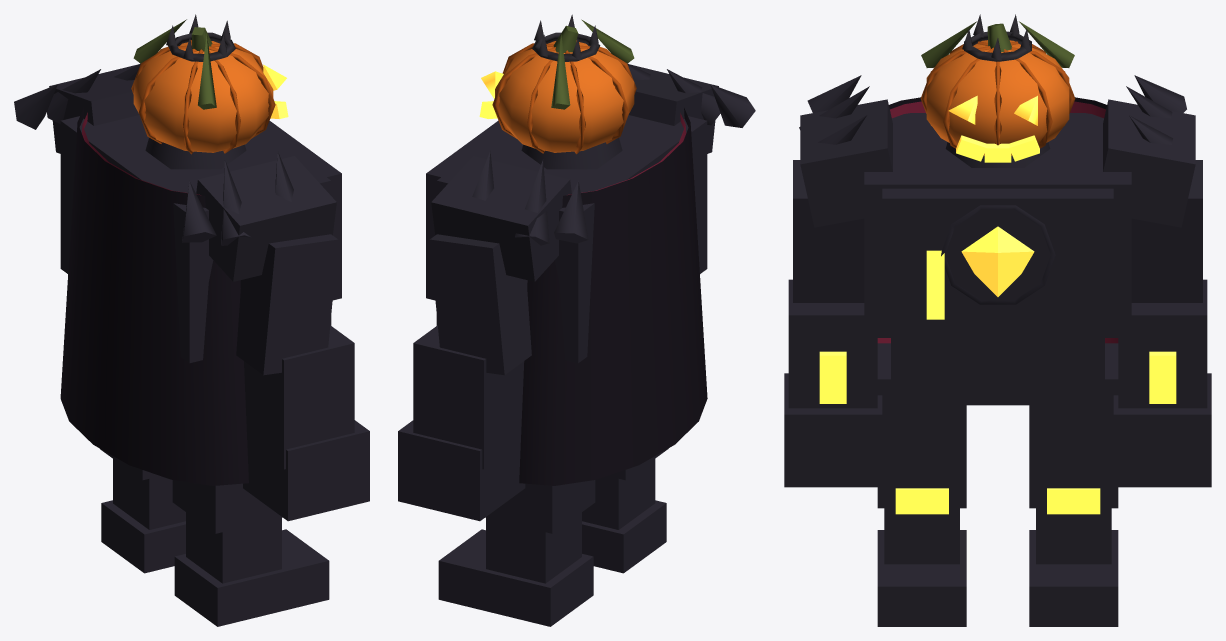
File: enemy_boss.glb
3 renders of one model, left to right at view 1: azimuth 30°, elevation 25°; view 2: azimuth 150°, elevation 25°; view 3: azimuth 270°, elevation 25°, orthographic. The views are drawn at different scales.
Parts seen in each view (by area): view 1: cape, torso, arm_l_upper, arm_l_lower, pauldron_l, head, fist_l, foot_l, shin_l, foot_r, thigh_l, pauldron_r (+14 smaller); view 2: cape, torso, arm_r_upper, arm_r_lower, pauldron_r, head, fist_r, foot_r, shin_r, foot_l, thigh_r, pauldron_l (+14 smaller); view 3: chest_plate, torso, hips, head, thigh_l, thigh_r, pauldron_l, pauldron_r, fist_l, fist_r, arm_l_lower, arm_r_lower (+21 smaller).
Boxes of the visible parts, left/top/right/bottom form: cape: left=60, top=108, right=248, bottom=485; torso: left=60, top=115, right=331, bottom=362; arm_l_upper: left=236, top=234, right=338, bottom=375; arm_l_lower: left=244, top=325, right=354, bottom=469; pauldron_l: left=196, top=156, right=336, bottom=281; head: left=133, top=41, right=273, bottom=152; fist_l: left=243, top=420, right=369, bottom=521; foot_l: left=174, top=529, right=329, bottom=626; shin_l: left=186, top=512, right=281, bottom=583; foot_r: left=101, top=500, right=185, bottom=573; thigh_l: left=172, top=480, right=282, bottom=533; pauldron_r: left=49, top=64, right=139, bottom=153; cape: left=519, top=108, right=707, bottom=485; torso: left=436, top=115, right=707, bottom=363; arm_r_upper: left=429, top=234, right=531, bottom=375; arm_r_lower: left=413, top=325, right=524, bottom=469; pauldron_r: left=431, top=156, right=571, bottom=281; head: left=495, top=41, right=634, bottom=152; fist_r: left=398, top=420, right=525, bottom=521; foot_r: left=438, top=529, right=593, bottom=626; shin_r: left=486, top=512, right=581, bottom=583; foot_l: left=582, top=500, right=666, bottom=573; thigh_r: left=485, top=480, right=595, bottom=533; pauldron_l: left=628, top=64, right=718, bottom=153; chest_plate: left=882, top=188, right=1113, bottom=327; torso: left=864, top=113, right=1131, bottom=337; hips: left=891, top=338, right=1104, bottom=405; head: left=926, top=40, right=1069, bottom=155; thigh_l: left=877, top=343, right=966, bottom=508; thigh_r: left=1029, top=343, right=1118, bottom=508; pauldron_l: left=800, top=99, right=892, bottom=227; pauldron_r: left=1103, top=99, right=1195, bottom=227; fist_l: left=784, top=373, right=882, bottom=487; fist_r: left=1113, top=373, right=1211, bottom=487; arm_l_lower: left=788, top=279, right=877, bottom=408; arm_r_lower: left=1118, top=279, right=1207, bottom=408.
Size of the model in its own units: 0.2969 by 0.7043 by 0.48.
